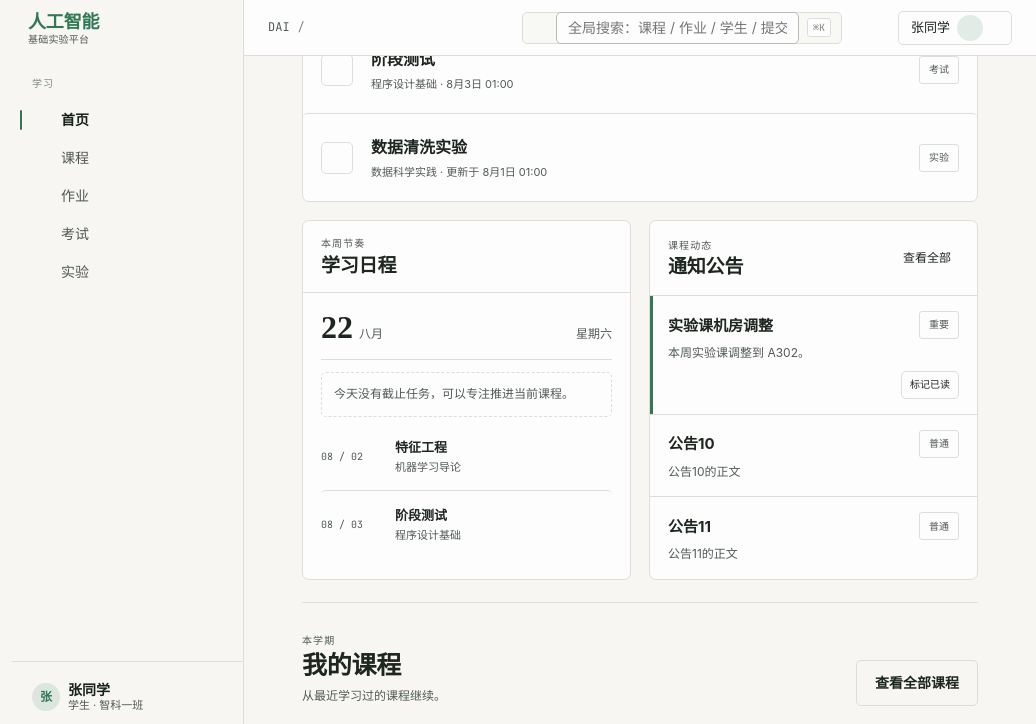
Test case: 学生工作台（student workspace redesign） › 公告最多显示三条，标记已读后只将未读数安全减一
(page scrolled)
Check: the number of elements with class "announcement-item" is 3, box [650,296,977,414]; [650,414,977,496]; [650,496,977,579]
Check: the element with class "announcement-card" shows "实验课机房调整", box [668,316,773,335]
Click the button with class "mark-read-btn": (930, 385) [901,371,959,399]
(page scrolled)
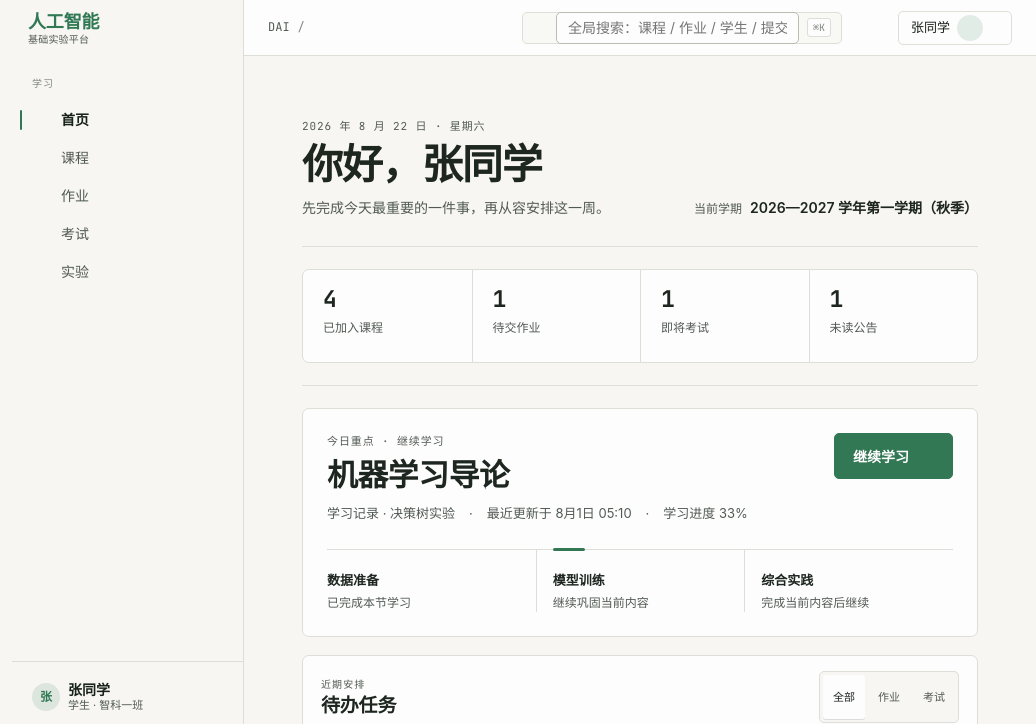
Check: the 3rd text with class "summary-num" reads "1", box [830,284,843,314]
